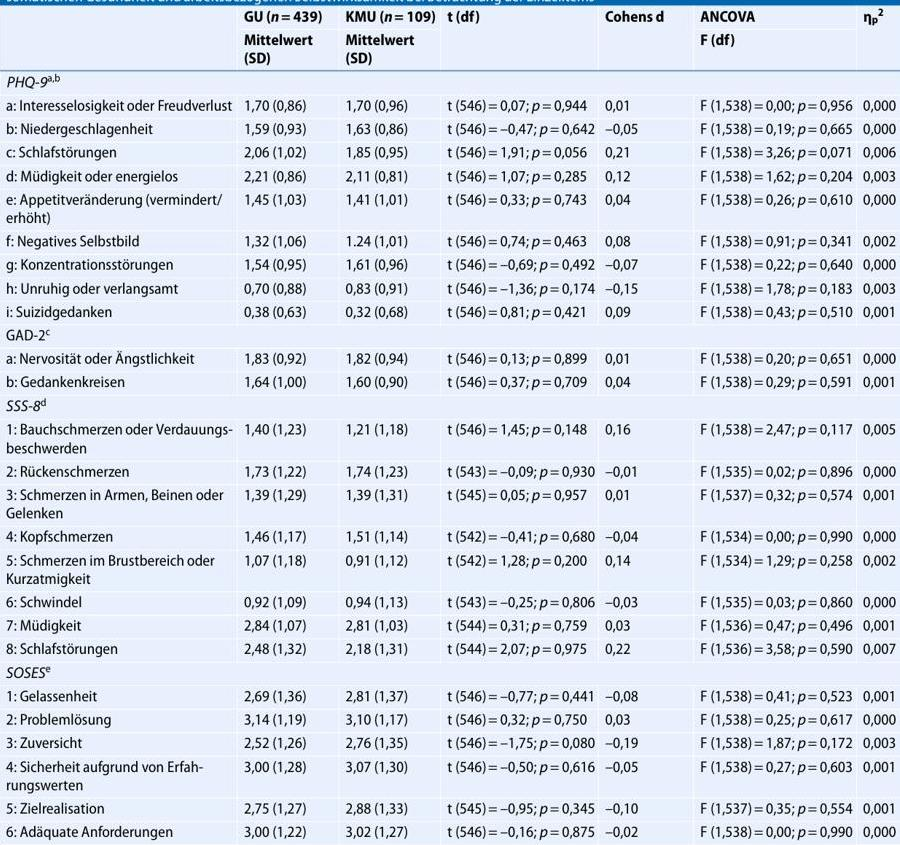table: (5, 5, 895, 840)
table column: (5, 5, 237, 840), (675, 5, 857, 840), (440, 5, 599, 840), (333, 5, 440, 840), (237, 5, 333, 840), (599, 5, 675, 840), (857, 5, 895, 840)
table column header: (5, 5, 895, 68)
table projected row header: (5, 68, 895, 92), (5, 392, 895, 416), (5, 659, 895, 683), (5, 322, 895, 345)
table row: (5, 5, 895, 68), (5, 186, 895, 228), (5, 416, 895, 458), (5, 482, 895, 524), (5, 547, 895, 589), (5, 753, 895, 795), (5, 68, 895, 92), (5, 92, 895, 116), (5, 139, 895, 163), (5, 228, 895, 252), (5, 298, 895, 322), (5, 345, 895, 369), (5, 392, 895, 416), (5, 458, 895, 482), (5, 612, 895, 636), (5, 659, 895, 683), (5, 706, 895, 730), (5, 116, 895, 139), (5, 163, 895, 186), (5, 252, 895, 275), (5, 275, 895, 298), (5, 322, 895, 345), (5, 369, 895, 392), (5, 524, 895, 547), (5, 589, 895, 612), (5, 636, 895, 659), (5, 683, 895, 706), (5, 730, 895, 753), (5, 795, 895, 818), (5, 818, 895, 840)
